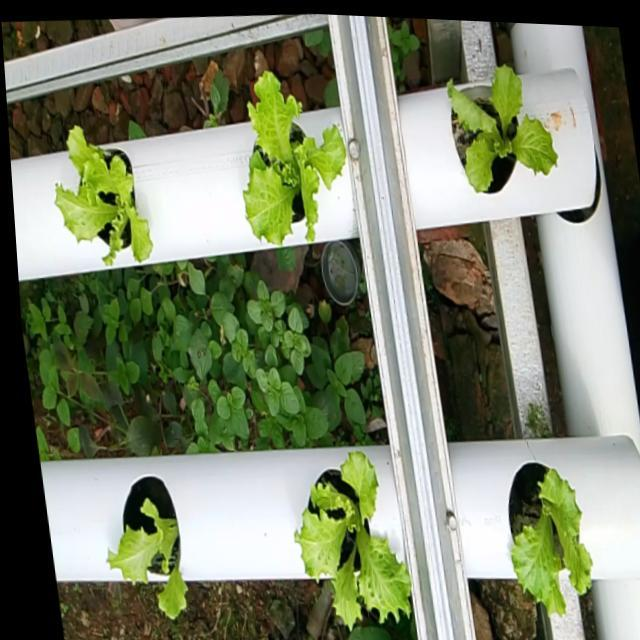Baby: (298, 453, 415, 634), (248, 74, 351, 248), (451, 69, 562, 199), (60, 126, 157, 266), (512, 466, 596, 620), (111, 474, 190, 617)
